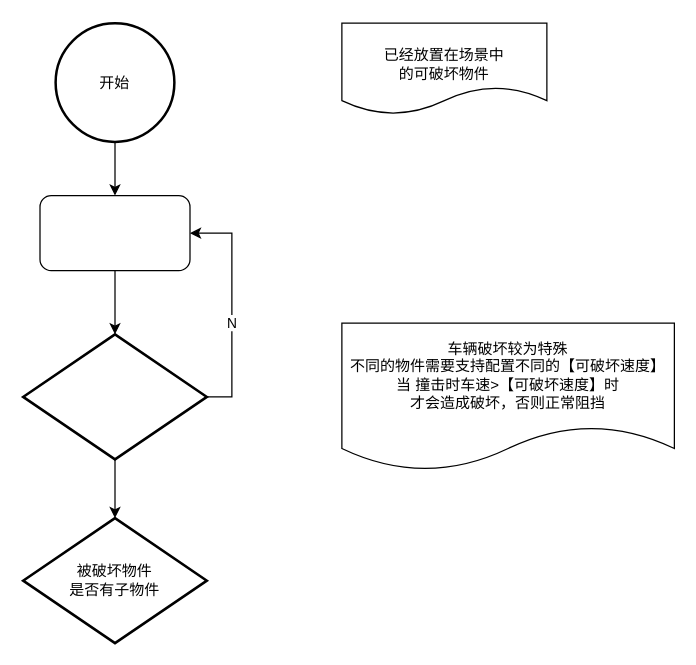
The diagram is 696 pixels wide and 665 high, and some of its shapes have lost their labels. The shapes that lost their labels are listed below. From the top down, each one's centre as x and y in pixels, then its label:
(x=114, y=232): 静置
(x=114, y=396): 是否受到破坏伤害
